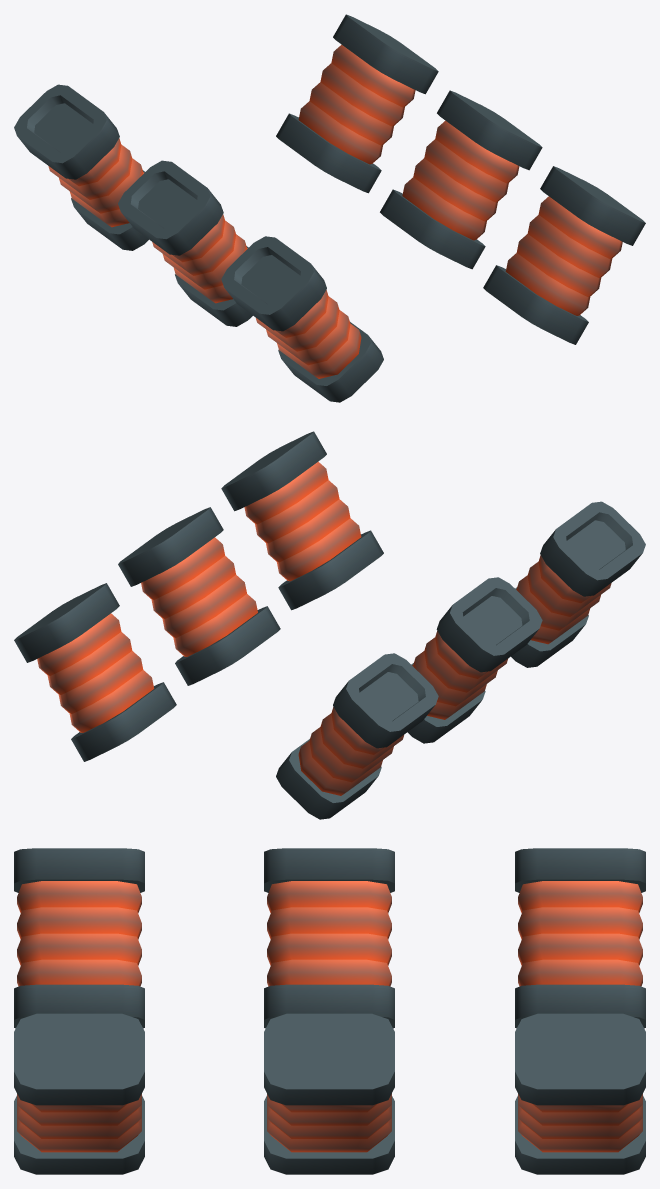
File: Generator_010.fbx
The picture shows the model from 3 angles, top to bottom: view 1: azimuth 30°, elevation 25°; view 2: azimuth 150°, elevation 25°; view 3: azimuth 270°, elevation 25°; orthographic projection. The views are drawn at different scales.
Parts seen in each view (by area): view 1: Generator_010; view 2: Generator_010; view 3: Generator_010.
Part boxes in pixels (<box>): Generator_010: <box>14,14,645,402</box>; Generator_010: <box>14,431,645,819</box>; Generator_010: <box>14,848,645,1174</box>.
Bounding box in the file's own units: 149 × 176 × 53.03.
